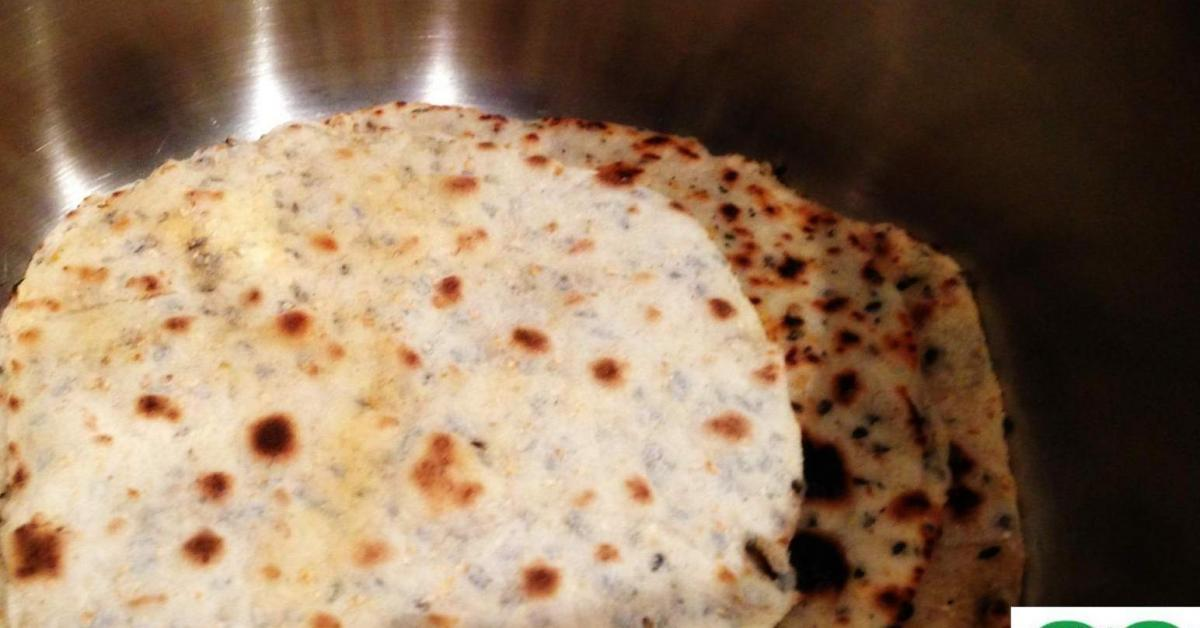chapati: (0, 110, 802, 626)
